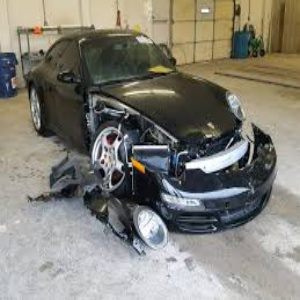bumper: (147, 140, 290, 239)
